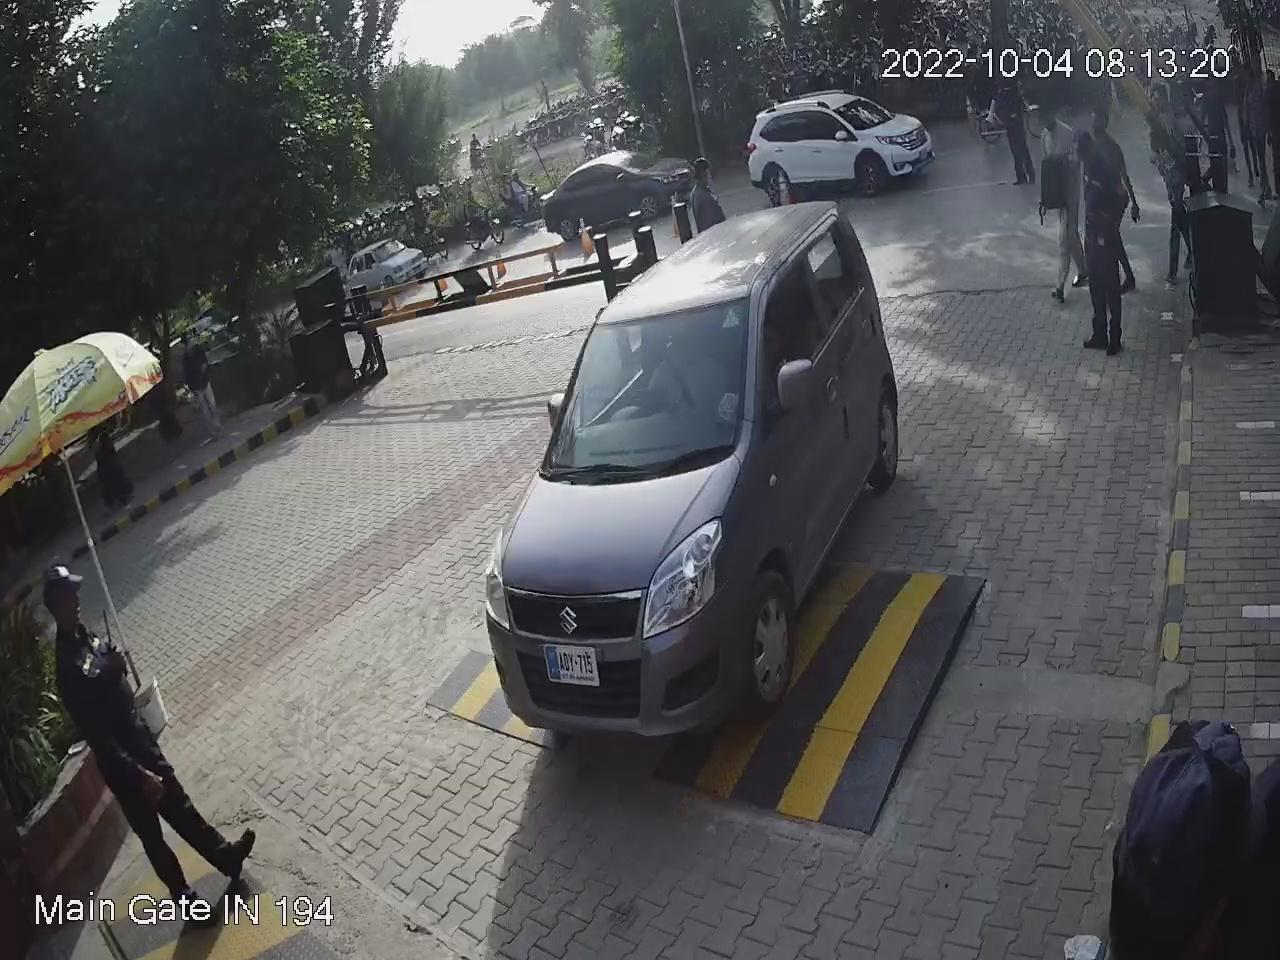windshield: (538, 280, 753, 478)
